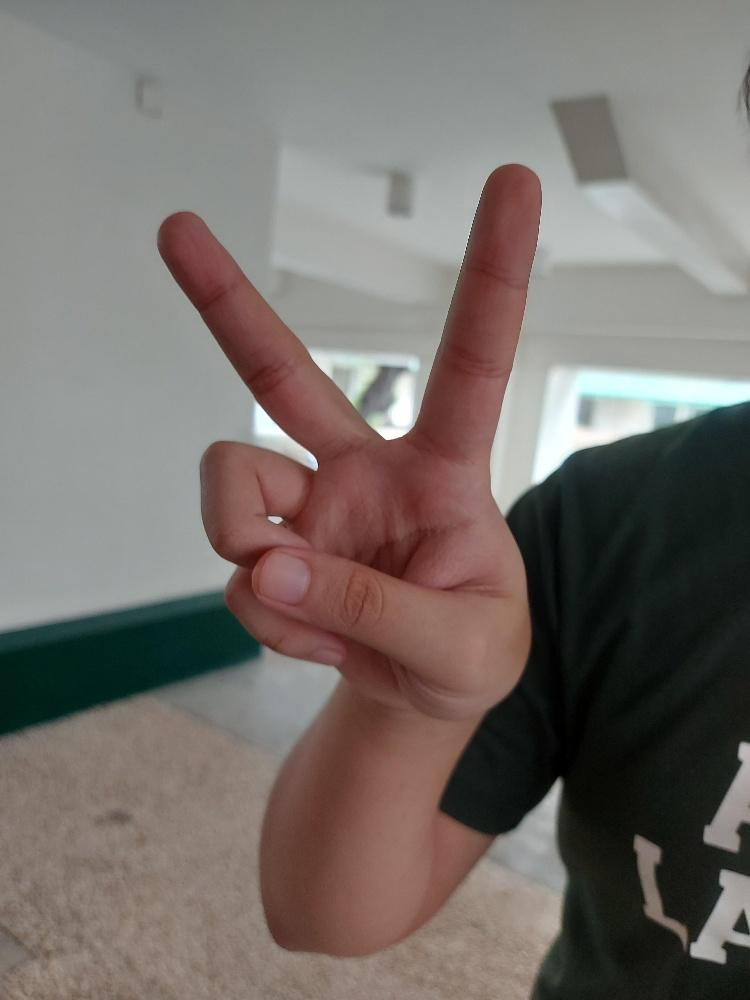v: (154, 161, 546, 721)
